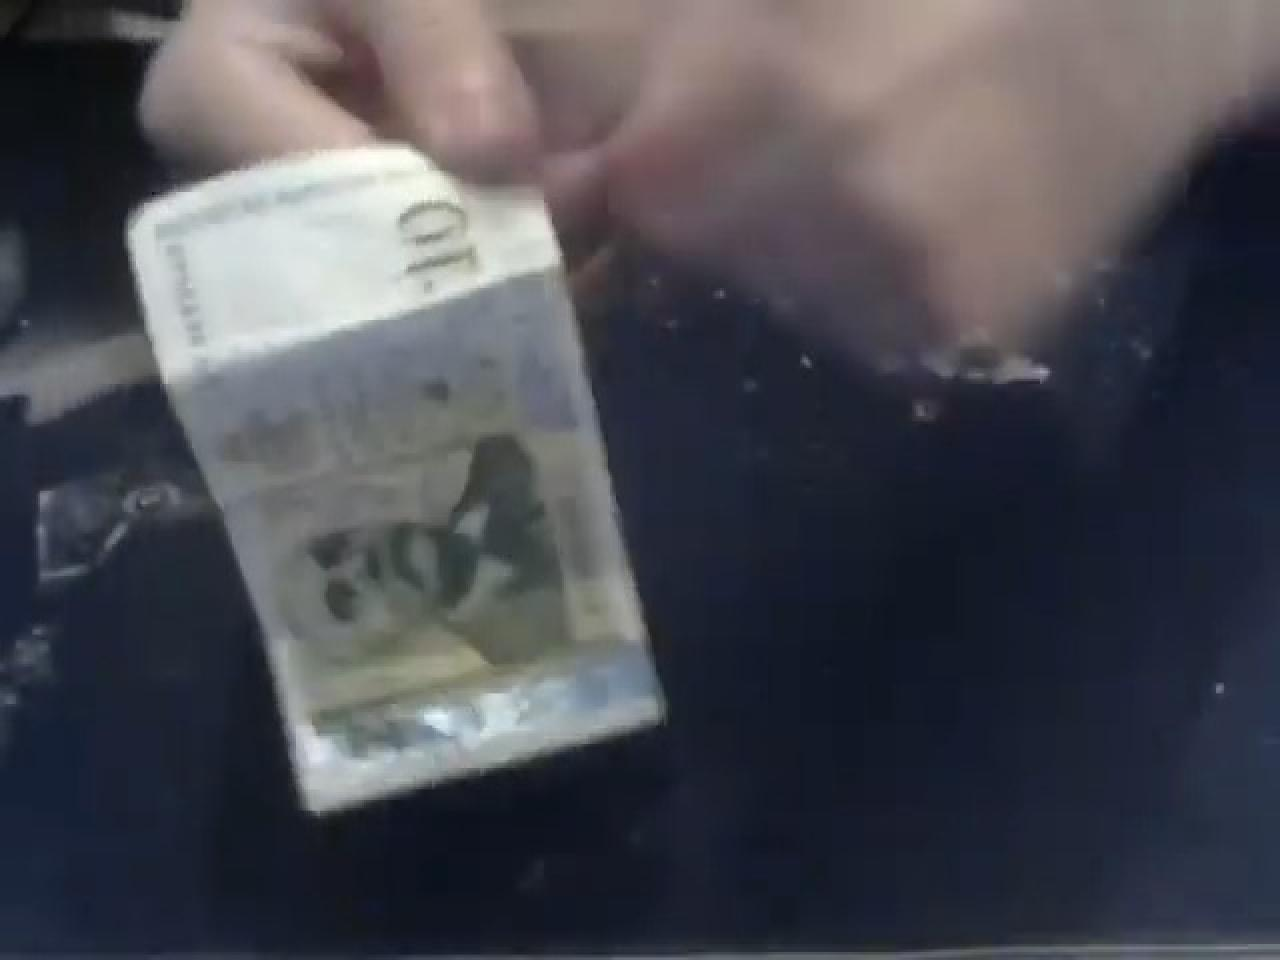10leva: (383, 177, 500, 317)
